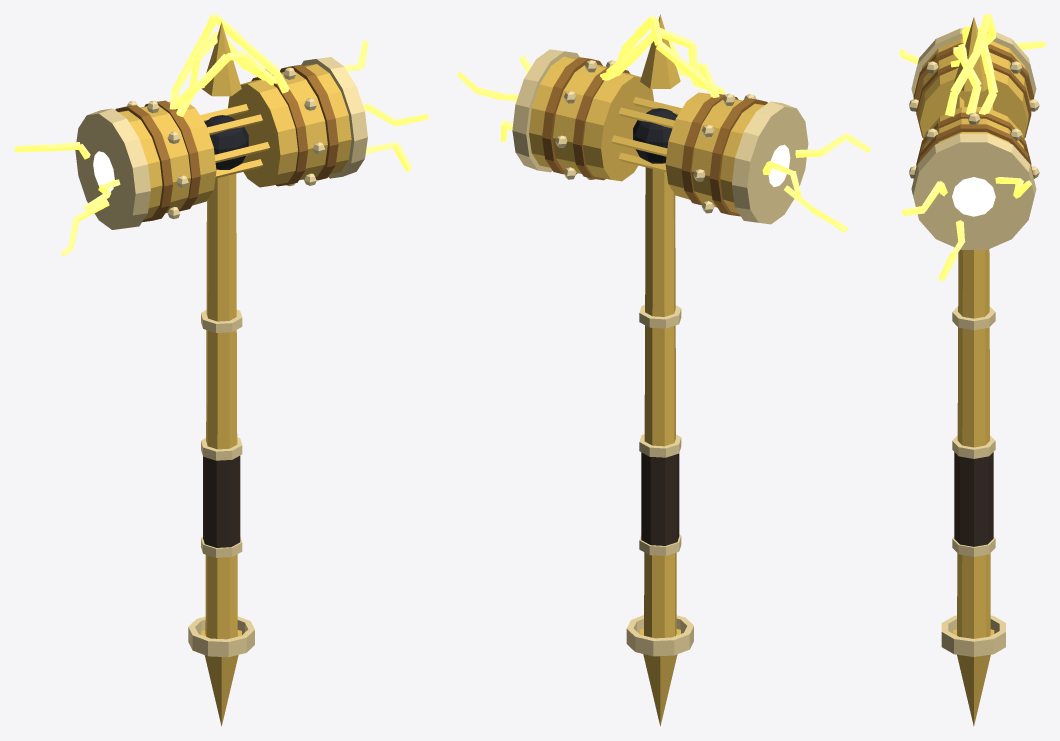
The model's file is vorlaug_maul.glb.
3 renders of one model, left to right at view 1: azimuth 30°, elevation 25°; view 2: azimuth 150°, elevation 25°; view 3: azimuth 270°, elevation 25°, orthographic.
Visible parts, largest first — view 1: vorlaug_maul; view 2: vorlaug_maul; view 3: vorlaug_maul.
Part boxes in pixels (<box>): vorlaug_maul: <box>14,14,428,726</box>; vorlaug_maul: <box>457,14,870,726</box>; vorlaug_maul: <box>899,14,1045,726</box>.
Bounding box in the file's own units: 1.19 × 2.33 × 0.4345.
